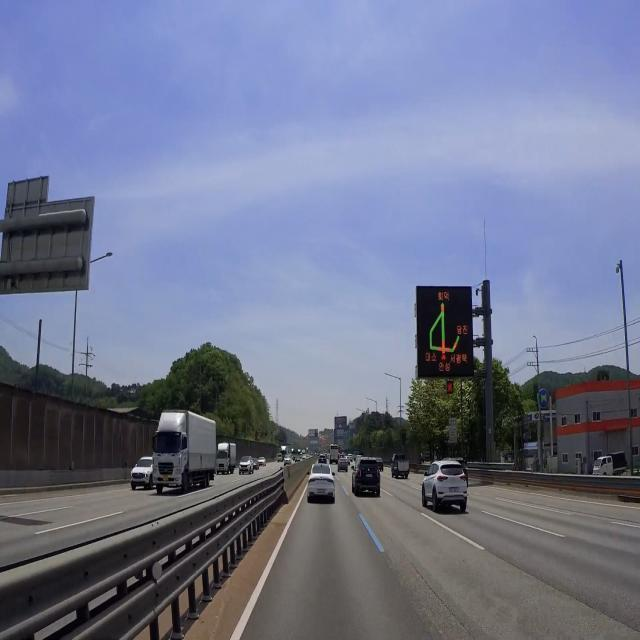car: (445, 481, 464, 495), (364, 466, 375, 483), (160, 471, 170, 489), (315, 487, 325, 499)
